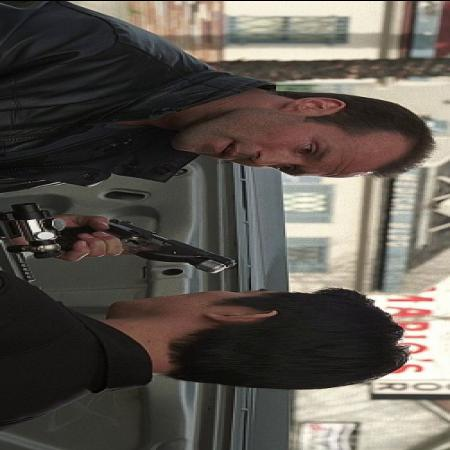Pistol: (2, 199, 250, 274)
